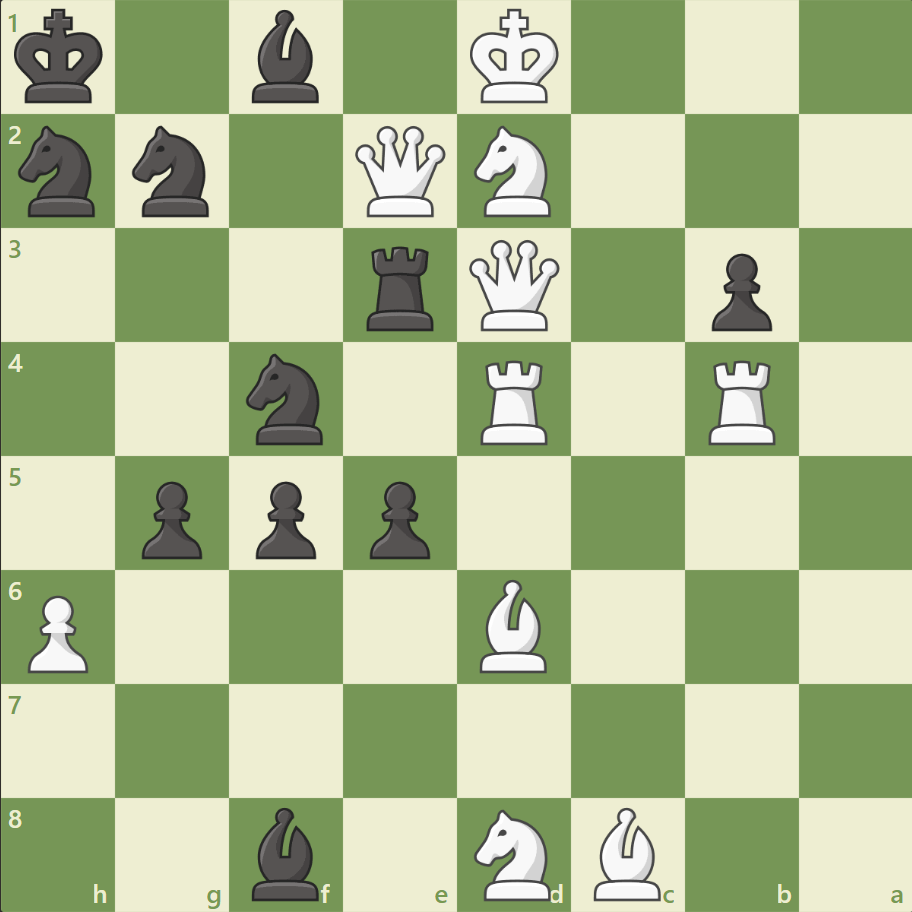B: (585, 801, 669, 904), (471, 574, 555, 676)
K: (465, 4, 565, 112)
N: (465, 802, 562, 904), (465, 121, 562, 223)
P: (20, 586, 95, 677)
Q: (351, 122, 450, 222), (464, 236, 563, 335)
R: (700, 352, 783, 449), (473, 352, 556, 449)
b: (244, 801, 328, 904), (244, 6, 328, 109)
k: (11, 4, 111, 112)
n: (124, 121, 222, 223), (238, 348, 335, 450), (11, 121, 108, 223)
p: (247, 473, 322, 564), (133, 473, 208, 564), (701, 246, 776, 337), (361, 473, 435, 564)
r: (360, 239, 442, 336)
